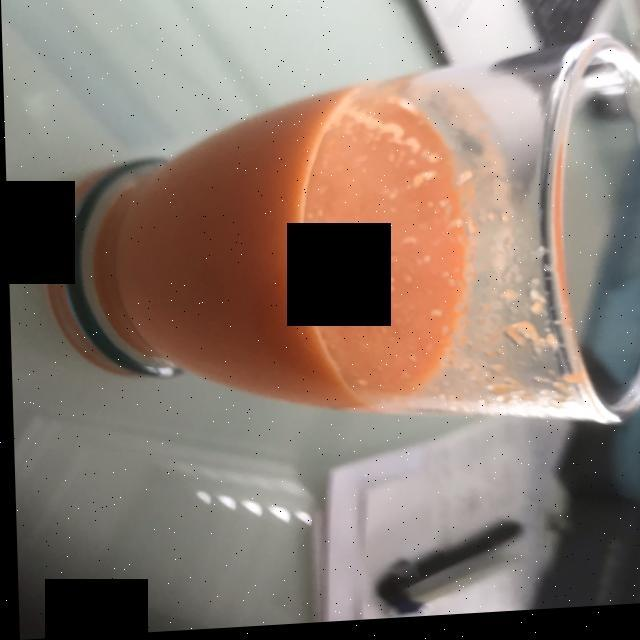juice: (106, 96, 462, 408)
